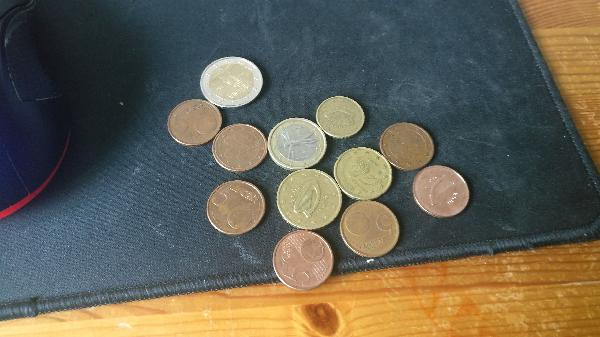Fifty Cent: (277, 171, 342, 228)
Five Cent: (272, 229, 339, 292), (341, 200, 407, 257), (207, 178, 270, 233), (413, 166, 477, 217), (379, 121, 440, 172), (165, 99, 222, 147), (213, 122, 267, 170)
One Euro: (268, 117, 325, 170)
Ten Cent: (315, 95, 366, 137)
Twenty Cent: (335, 144, 394, 200)
Two Euro: (201, 54, 263, 108)
